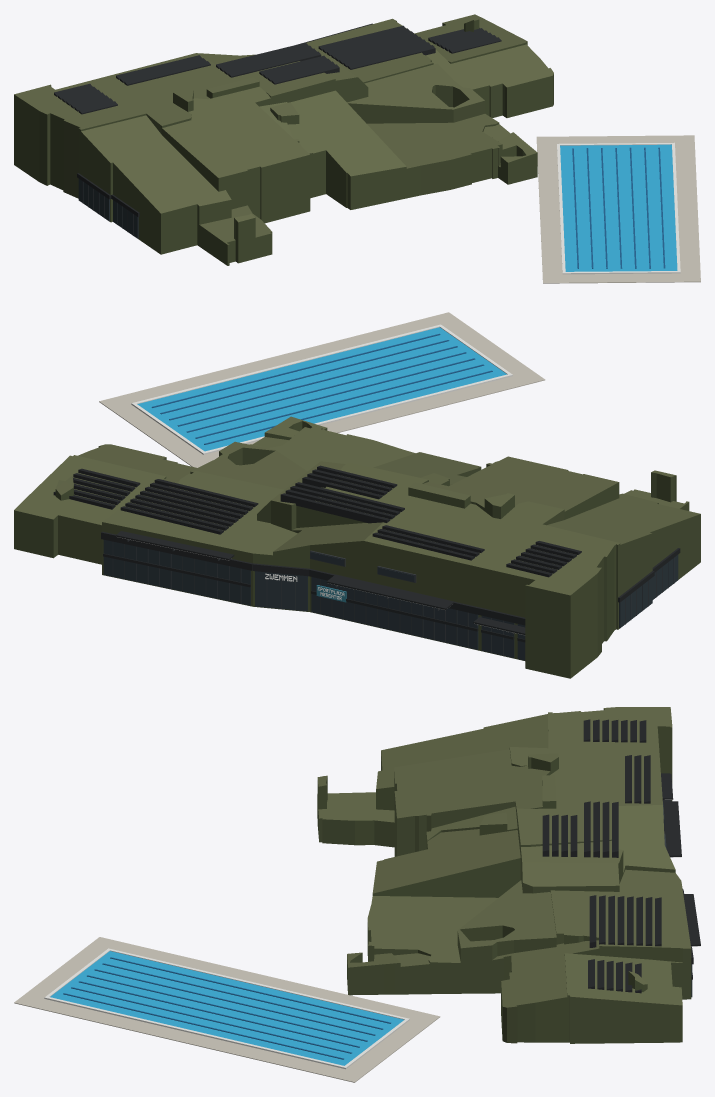
File: sportplaza-mercator.glb
The picture shows the model from 3 angles, top to bottom: view 1: azimuth 30°, elevation 25°; view 2: azimuth 150°, elevation 25°; view 3: azimuth 270°, elevation 25°; orthographic projection. The views are drawn at different scales.
Parts seen in each view (by area): view 1: sportplaza-mercator; view 2: sportplaza-mercator; view 3: sportplaza-mercator.
Part boxes in pixels (x1=…): sportplaza-mercator: x1=14, y1=14, x2=700, y2=283; sportplaza-mercator: x1=14, y1=312, x2=700, y2=678; sportplaza-mercator: x1=14, y1=707, x2=700, y2=1082.
Bounding box in the file's own units: 101 × 14.89 × 99.33.
